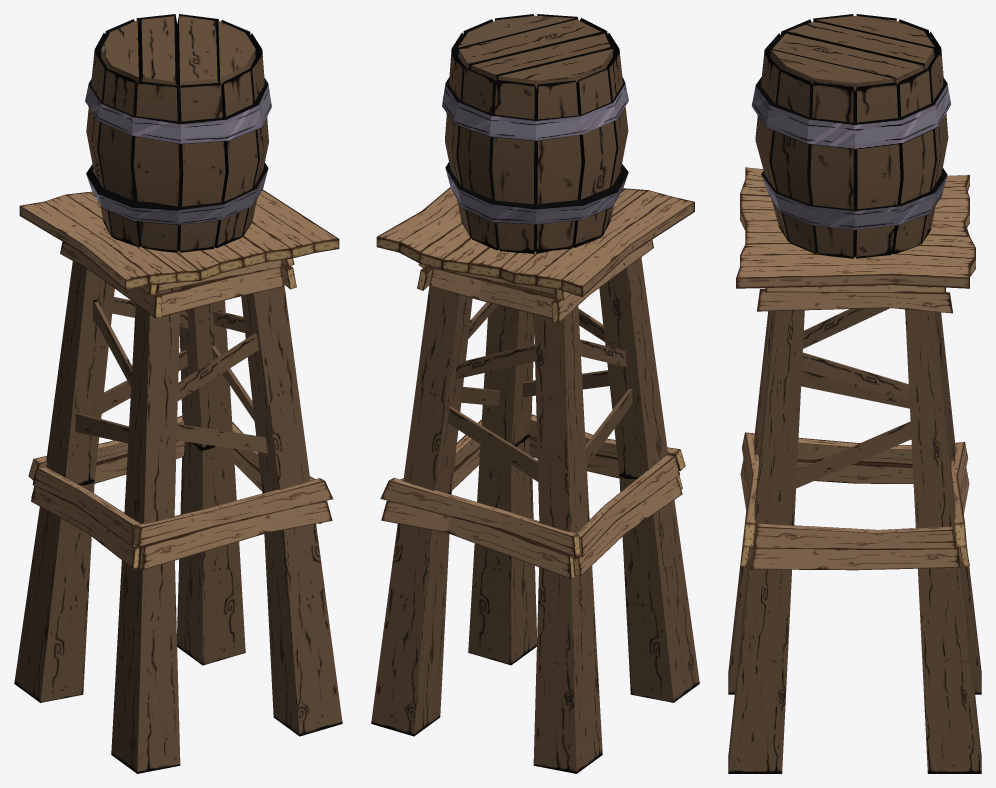
File: wieza_wodna1.fbx
3 views of the same model, side by side, from view 1: azimuth 30°, elevation 25°; view 2: azimuth 150°, elevation 25°; view 3: azimuth 270°, elevation 25° (orthographic). The views are drawn at different scales.
Parts seen in each view (by area): view 1: wieza wodna1; view 2: wieza wodna1; view 3: wieza wodna1.
Boxes of the visible parts, x1,y1,x2,y2 form: wieza wodna1: (14,14,342,773); wieza wodna1: (371,14,699,773); wieza wodna1: (728,14,981,773).
Size of the model in its own units: 323 by 974 by 330.
2 materials, 2 textured.
